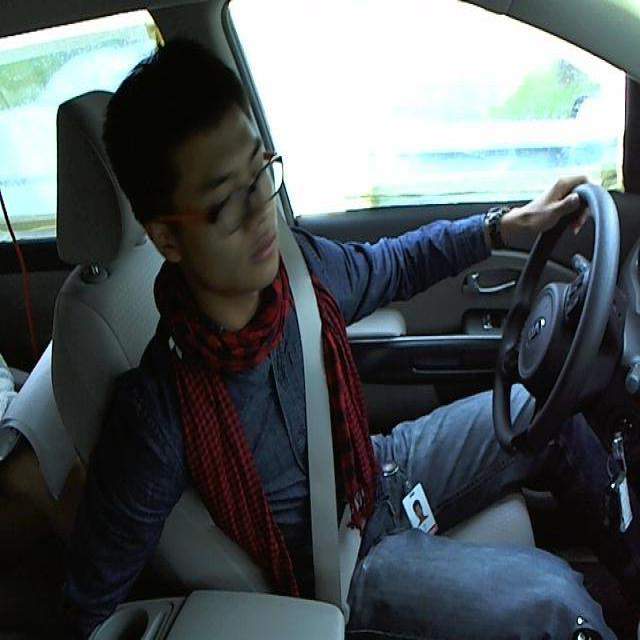seatbelt: (278, 265, 370, 595)
